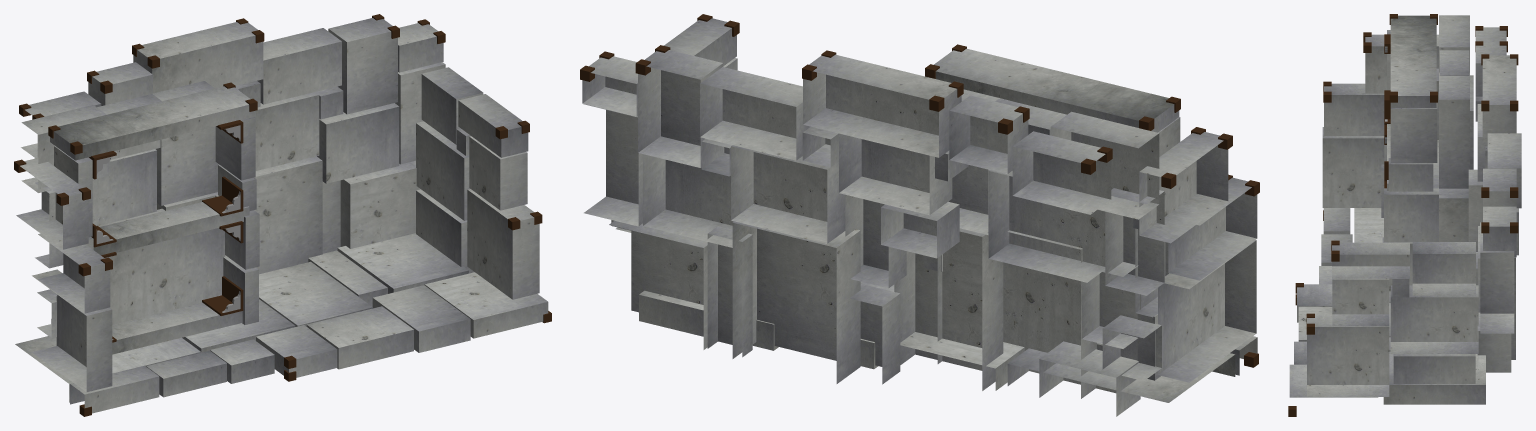
Rendered from coner.FBX.
3 views of the same model, side by side, from view 1: azimuth 30°, elevation 25°; view 2: azimuth 150°, elevation 25°; view 3: azimuth 270°, elevation 25° (orthographic). The views are drawn at different scales.
Parts seen in each view (by area): view 1: Box054; view 2: Box054; view 3: Box054.
Part boxes in pixels (bbox=[...]): Box054: bbox=[14, 14, 551, 416]; Box054: bbox=[580, 14, 1259, 416]; Box054: bbox=[1288, 14, 1521, 416].
Bounding box in the file's own units: 419 × 228 × 206.
Materials: 3 (1 with a texture image).
